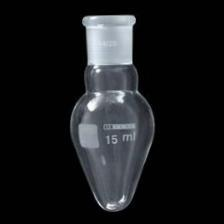Pear shaped flask: (53, 16, 159, 206)
